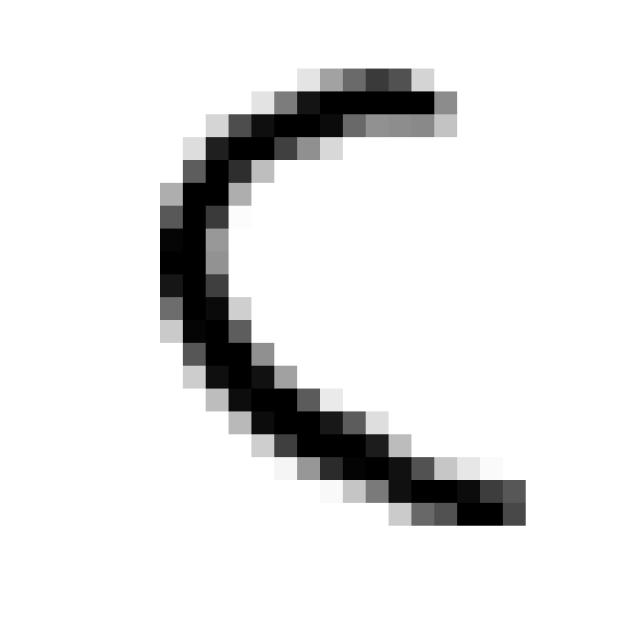2 -two-: (135, 50, 551, 550)
